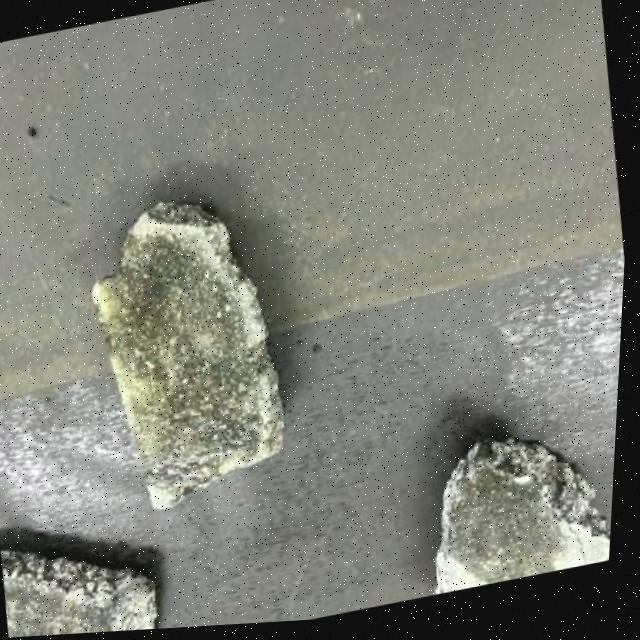Road Debris: (81, 220, 292, 521), (440, 458, 581, 598), (5, 544, 139, 639)
